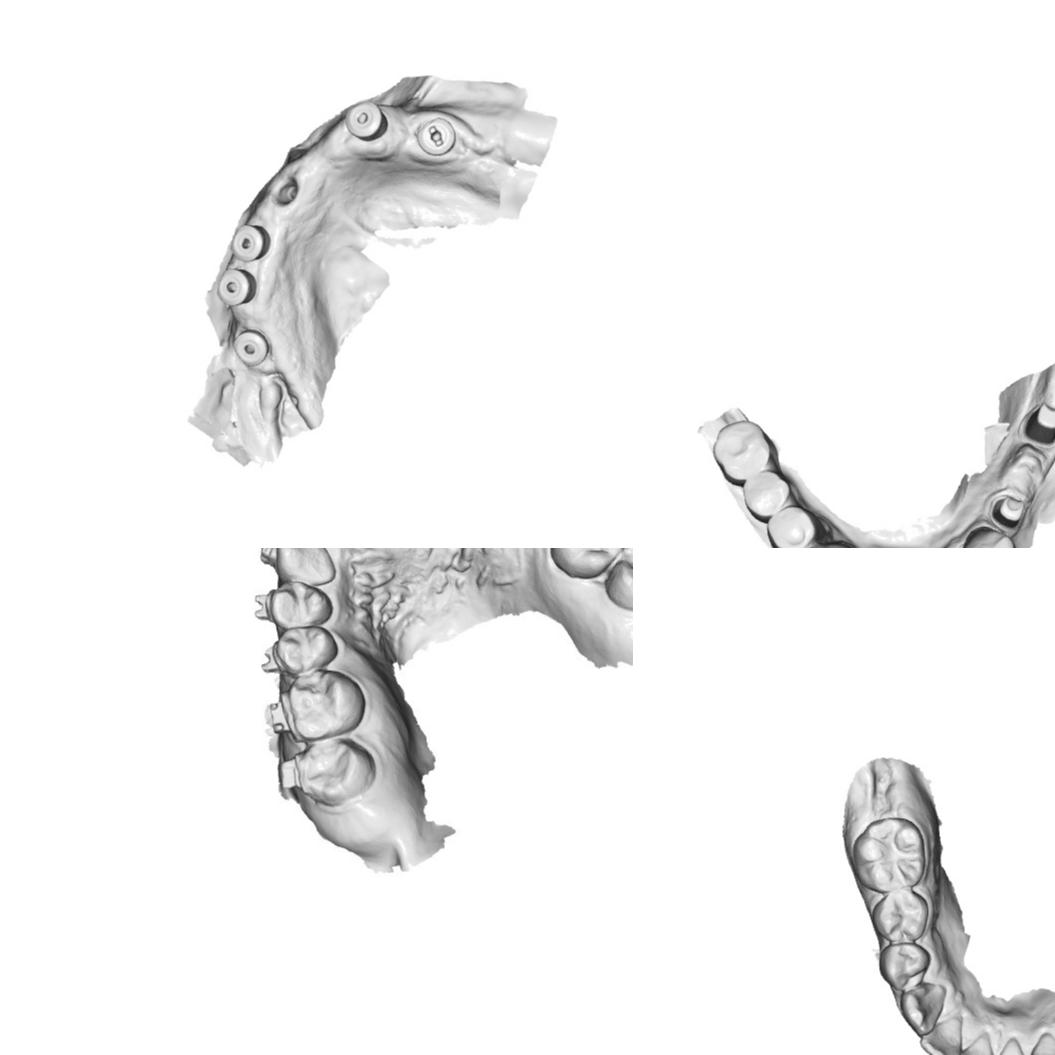abutment: (1016, 393, 1055, 448), (989, 494, 1026, 532)
canine: (898, 982, 948, 1036), (964, 527, 1016, 548)
implant: (342, 100, 388, 141), (218, 266, 258, 308), (233, 327, 270, 368), (230, 223, 269, 261)
implant_minus: (415, 114, 461, 155)
incisor: (919, 1014, 964, 1055), (276, 548, 330, 581), (955, 1029, 996, 1055), (989, 1035, 1029, 1055), (1024, 1030, 1055, 1055)
molar: (850, 815, 926, 892), (296, 739, 371, 799), (291, 671, 363, 733), (711, 419, 775, 487), (559, 548, 621, 568), (614, 548, 633, 607)
premolar: (870, 890, 929, 943), (877, 941, 932, 993), (271, 580, 327, 631), (742, 469, 791, 524), (279, 626, 338, 671), (765, 505, 826, 548)
